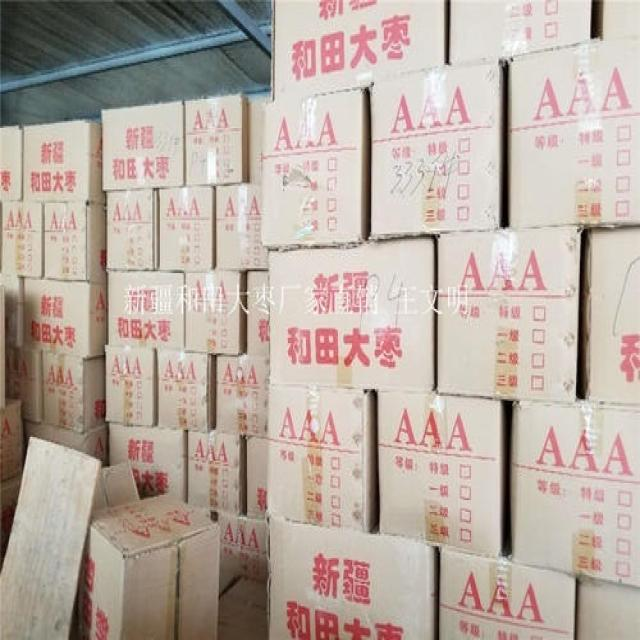box: (503, 36, 640, 227), (270, 236, 435, 393), (436, 227, 580, 403), (370, 55, 504, 239), (511, 401, 640, 589), (379, 391, 507, 556), (77, 493, 220, 638), (269, 519, 440, 640), (262, 85, 370, 249), (271, 0, 447, 99), (270, 386, 378, 532), (438, 550, 577, 640), (579, 227, 640, 404), (448, 0, 591, 60), (101, 102, 184, 188), (24, 119, 105, 203), (109, 422, 188, 503), (24, 280, 106, 357), (109, 270, 184, 350), (184, 94, 248, 186), (44, 352, 108, 432), (187, 270, 247, 355), (42, 203, 106, 282), (157, 348, 215, 432), (159, 186, 216, 271), (188, 433, 247, 515), (216, 353, 269, 439), (216, 183, 268, 270), (108, 189, 159, 270), (106, 345, 157, 425), (577, 577, 640, 640), (26, 422, 109, 469), (216, 512, 266, 579), (1, 200, 42, 280), (220, 577, 268, 638), (5, 348, 42, 422), (96, 459, 140, 507), (0, 476, 22, 572), (247, 271, 269, 357), (0, 398, 22, 483), (593, 0, 640, 38), (248, 99, 269, 181), (0, 275, 24, 346), (0, 126, 22, 200), (247, 437, 266, 515), (219, 572, 234, 592), (192, 505, 211, 517)
